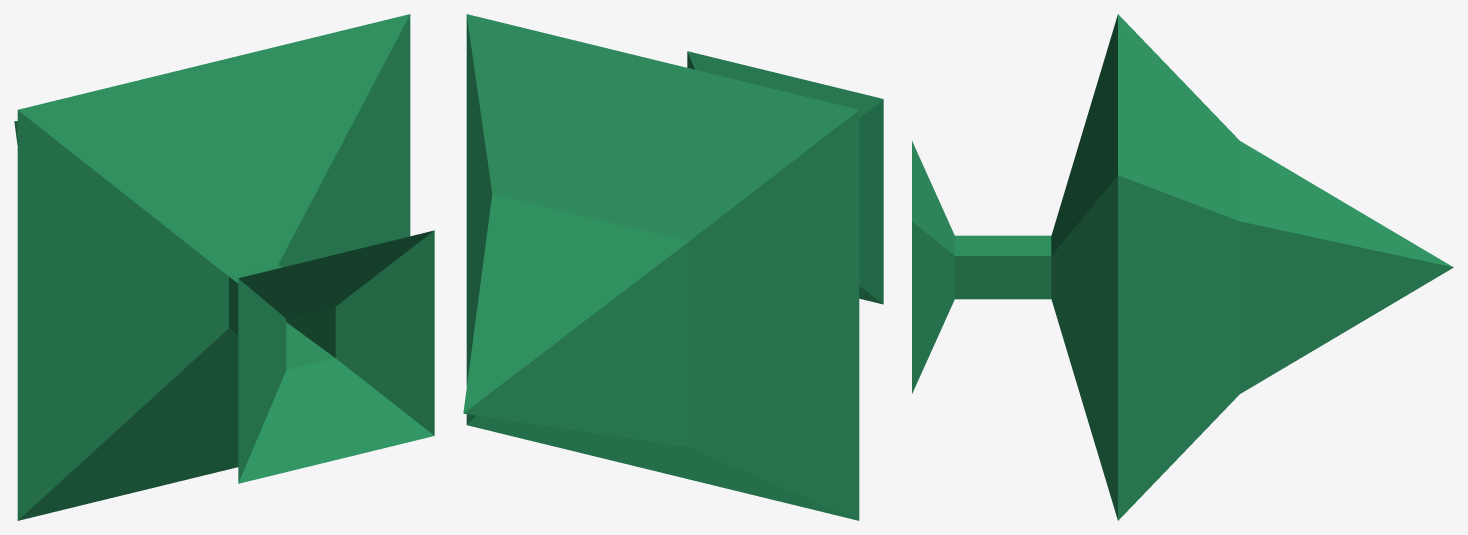
The model's file is tree01.fbx.
3 renders of one model, left to right at view 1: azimuth 30°, elevation 25°; view 2: azimuth 150°, elevation 25°; view 3: azimuth 270°, elevation 25°, orthographic. The views are drawn at different scales.
Visible parts, largest first — view 1: tree01; view 2: tree01; view 3: tree01.
Boxes of the visible parts, <box> form: tree01: <box>14,14,434,520</box>; tree01: <box>463,14,883,520</box>; tree01: <box>912,14,1453,520</box>.
Size of the model in its own units: 200 by 200 by 284.
